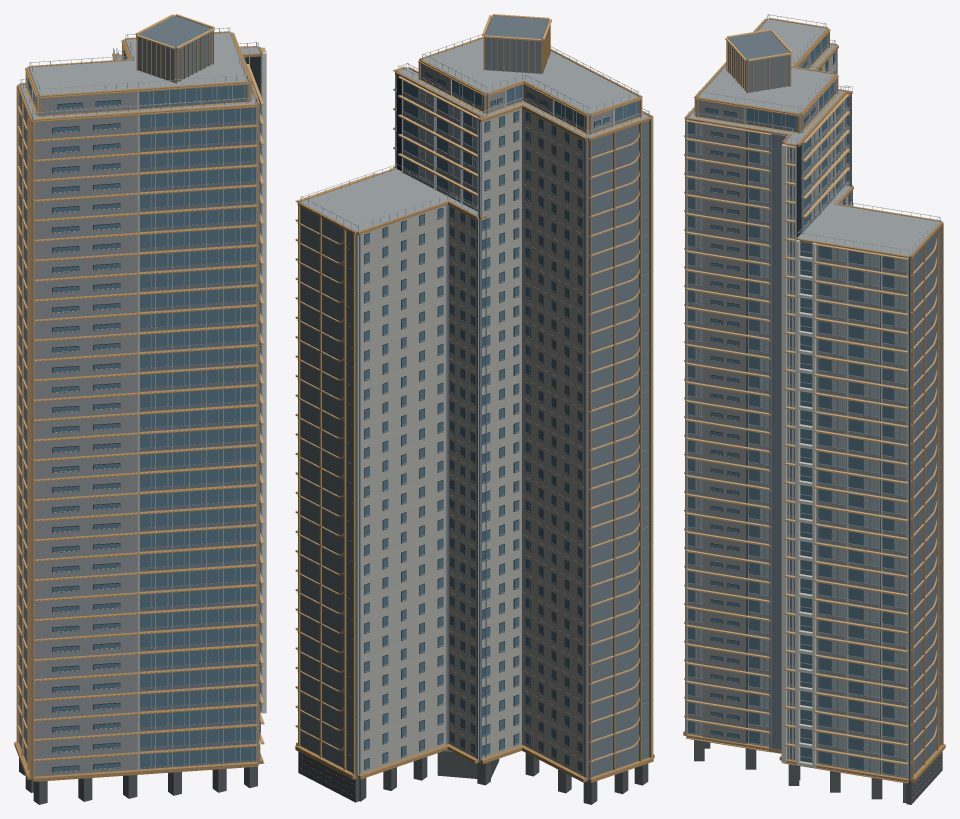
The model's file is bespoke-raemian-onepentas-106.glb.
3 views of the same model, side by side, from view 1: azimuth 30°, elevation 25°; view 2: azimuth 150°, elevation 25°; view 3: azimuth 270°, elevation 25° (orthographic). The views are drawn at different scales.
Parts seen in each view (by area): view 1: bespoke-raemian-onepentas-106_export_batch_7, bespoke-raemian-onepentas-106_export_batch_9, bespoke-raemian-onepentas-106_export_batch_2, bespoke-raemian-onepentas-106_export_batch_4, bespoke-raemian-onepentas-106_export_batch_3, bespoke-raemian-onepentas-106_export_batch_11, bespoke-raemian-onepentas-106_export_batch_5, bespoke-raemian-onepentas-106_export_batch_6, bespoke-raemian-onepentas-106_export_batch_12, bespoke-raemian-onepentas-106_export_batch_10, bespoke-raemian-onepentas-106_export_batch_1; view 2: bespoke-raemian-onepentas-106_export_batch_12, bespoke-raemian-onepentas-106_export_batch_4, bespoke-raemian-onepentas-106_export_batch_7, bespoke-raemian-onepentas-106_export_batch_2, bespoke-raemian-onepentas-106_export_batch_6, bespoke-raemian-onepentas-106_export_batch_5, bespoke-raemian-onepentas-106_export_batch_3, bespoke-raemian-onepentas-106_export_batch_11, bespoke-raemian-onepentas-106_export_batch_1, bespoke-raemian-onepentas-106_export_batch_9, bespoke-raemian-onepentas-106_export_batch_8; view 3: bespoke-raemian-onepentas-106_export_batch_9, bespoke-raemian-onepentas-106_export_batch_7, bespoke-raemian-onepentas-106_export_batch_4, bespoke-raemian-onepentas-106_export_batch_8, bespoke-raemian-onepentas-106_export_batch_11, bespoke-raemian-onepentas-106_export_batch_10, bespoke-raemian-onepentas-106_export_batch_3, bespoke-raemian-onepentas-106_export_batch_2, bespoke-raemian-onepentas-106_export_batch_5, bespoke-raemian-onepentas-106_export_batch_6, bespoke-raemian-onepentas-106_export_batch_1, bespoke-raemian-onepentas-106_export_batch_12.
Boxes of the visible parts, x1,y1,x2,y2 form: bespoke-raemian-onepentas-106_export_batch_7: (27, 37, 260, 771); bespoke-raemian-onepentas-106_export_batch_9: (27, 49, 261, 776); bespoke-raemian-onepentas-106_export_batch_2: (14, 15, 262, 781); bespoke-raemian-onepentas-106_export_batch_4: (19, 16, 261, 778); bespoke-raemian-onepentas-106_export_batch_3: (19, 27, 261, 772); bespoke-raemian-onepentas-106_export_batch_11: (17, 14, 266, 763); bespoke-raemian-onepentas-106_export_batch_5: (20, 32, 259, 119); bespoke-raemian-onepentas-106_export_batch_6: (27, 49, 260, 772); bespoke-raemian-onepentas-106_export_batch_12: (27, 32, 258, 779); bespoke-raemian-onepentas-106_export_batch_10: (261, 51, 266, 713); bespoke-raemian-onepentas-106_export_batch_1: (19, 720, 260, 804); bespoke-raemian-onepentas-106_export_batch_12: (357, 59, 652, 780); bespoke-raemian-onepentas-106_export_batch_4: (300, 16, 649, 780); bespoke-raemian-onepentas-106_export_batch_7: (356, 72, 638, 780); bespoke-raemian-onepentas-106_export_batch_2: (295, 15, 654, 782); bespoke-raemian-onepentas-106_export_batch_6: (364, 71, 609, 773); bespoke-raemian-onepentas-106_export_batch_5: (300, 38, 649, 232); bespoke-raemian-onepentas-106_export_batch_3: (299, 34, 649, 796); bespoke-raemian-onepentas-106_export_batch_11: (295, 14, 653, 762); bespoke-raemian-onepentas-106_export_batch_1: (298, 749, 648, 804); bespoke-raemian-onepentas-106_export_batch_9: (396, 63, 612, 211); bespoke-raemian-onepentas-106_export_batch_8: (396, 75, 477, 207); bespoke-raemian-onepentas-106_export_batch_9: (688, 54, 906, 778); bespoke-raemian-onepentas-106_export_batch_7: (688, 34, 910, 780); bespoke-raemian-onepentas-106_export_batch_4: (694, 31, 941, 780); bespoke-raemian-onepentas-106_export_batch_8: (688, 100, 907, 776); bespoke-raemian-onepentas-106_export_batch_11: (684, 29, 937, 783); bespoke-raemian-onepentas-106_export_batch_10: (781, 105, 908, 778); bespoke-raemian-onepentas-106_export_batch_3: (686, 14, 942, 797); bespoke-raemian-onepentas-106_export_batch_2: (683, 18, 945, 782); bespoke-raemian-onepentas-106_export_batch_5: (688, 19, 940, 256); bespoke-raemian-onepentas-106_export_batch_6: (705, 52, 909, 781); bespoke-raemian-onepentas-106_export_batch_1: (694, 740, 942, 804); bespoke-raemian-onepentas-106_export_batch_12: (685, 18, 851, 735).
Size of the model in its own units: 48.98 by 119 by 40.69.
